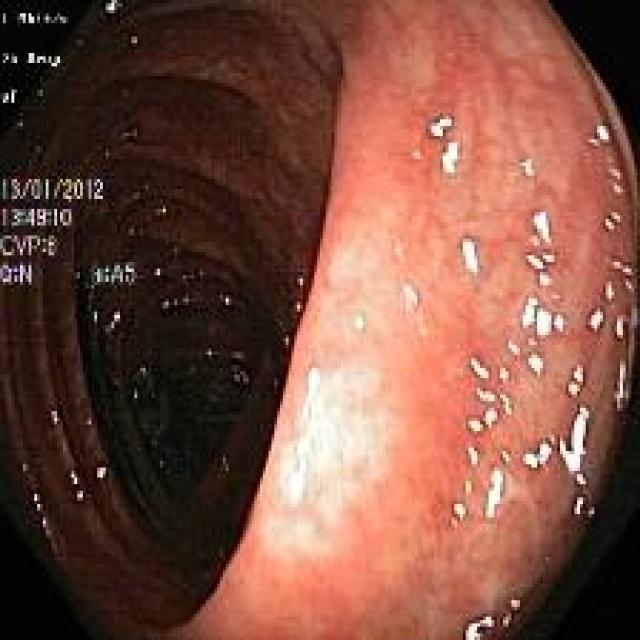ulcerative-colitis-grade-0-1: (356, 48, 624, 605)
